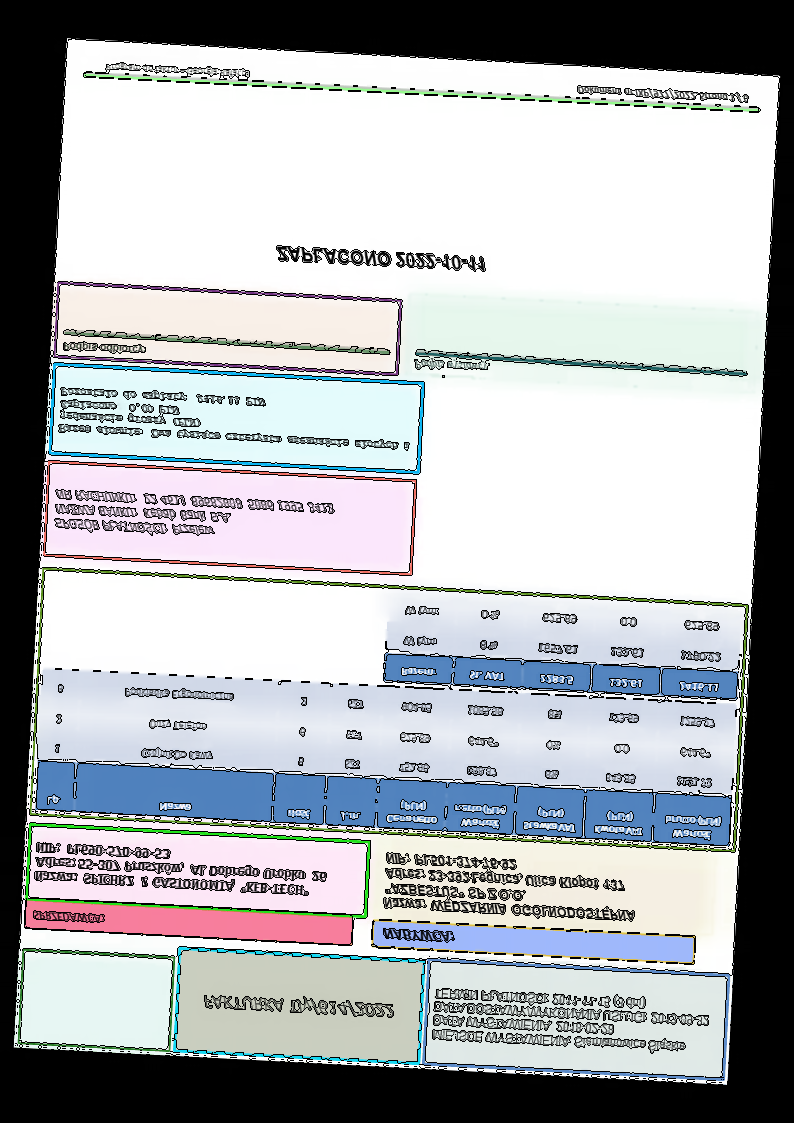Table: (33, 668, 737, 848), (383, 590, 743, 702)
TextBox: (57, 385, 412, 453), (429, 983, 712, 1057), (380, 851, 639, 924), (33, 840, 328, 899), (51, 487, 335, 546), (273, 244, 488, 276), (200, 992, 395, 1021), (575, 83, 750, 105), (103, 60, 251, 80), (60, 338, 148, 358), (411, 355, 491, 377), (29, 907, 106, 927), (380, 926, 456, 945)
